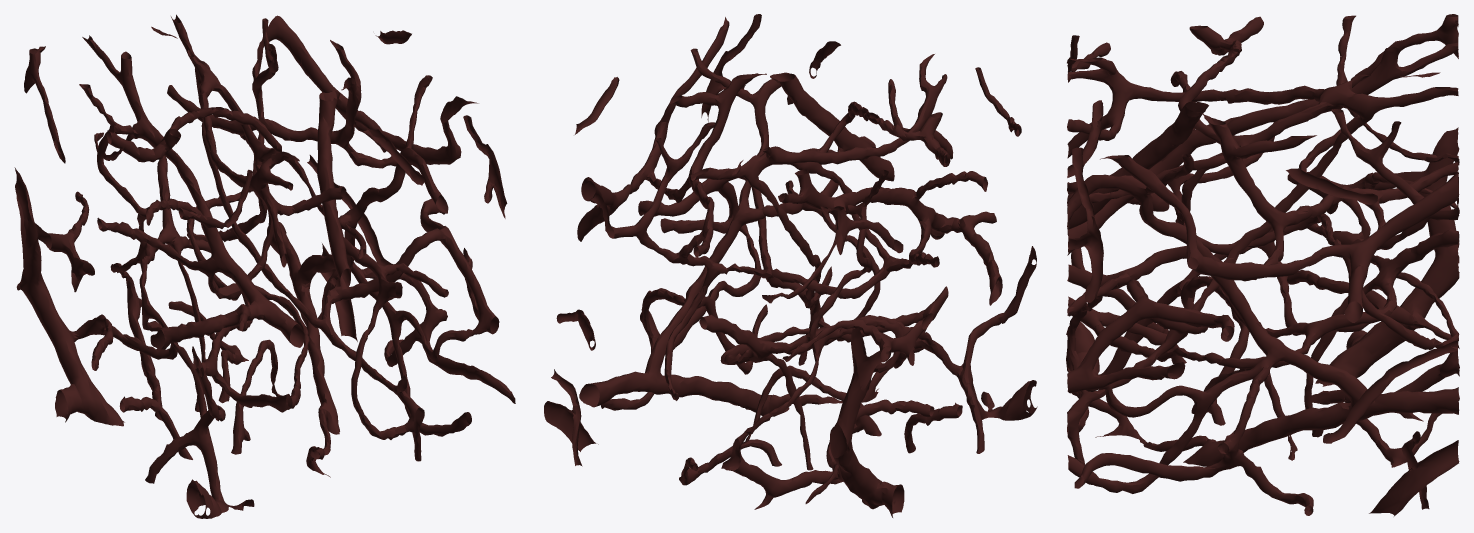
Rendered from ground_segmentation.glb.
The picture shows the model from 3 angles, left to right: view 1: azimuth 30°, elevation 25°; view 2: azimuth 150°, elevation 25°; view 3: azimuth 270°, elevation 25°; orthographic projection. The views are drawn at different scales.
Visible parts, largest first — view 1: Volume; view 2: Volume; view 3: Volume.
Part boxes in pixels (box(x1,y1,x2,y2)): Volume: box(14, 14, 515, 518); Volume: box(544, 14, 1037, 517); Volume: box(1066, 14, 1459, 516).
Bounding box in the file's own units: 49.65 × 49.52 × 49.56.
